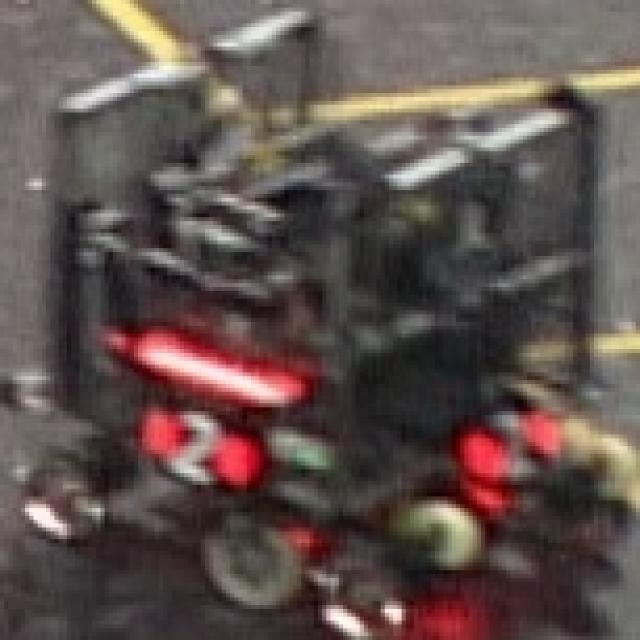R2: (138, 403, 251, 485), (460, 407, 561, 481)
